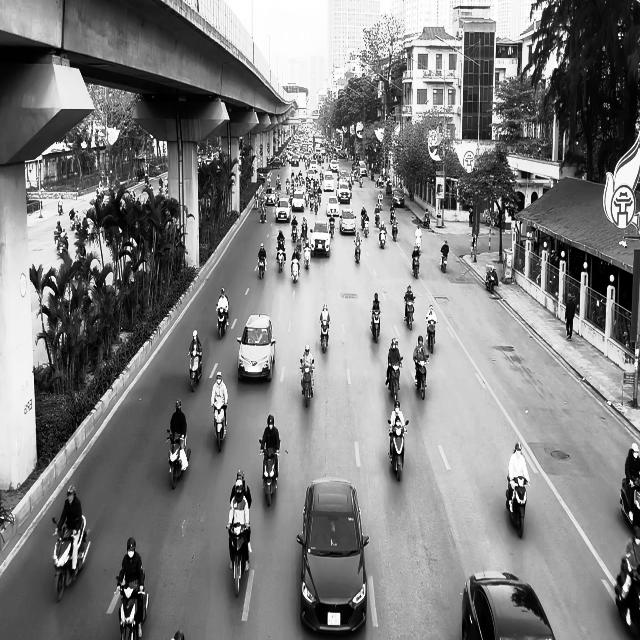car: (296, 477, 369, 634), (461, 570, 556, 639), (237, 314, 276, 382), (310, 220, 332, 257), (340, 207, 356, 235), (275, 199, 291, 222), (326, 195, 339, 217), (392, 187, 405, 207), (292, 191, 305, 211)
motorbike: (52, 515, 91, 603), (116, 576, 150, 640), (615, 556, 640, 637), (227, 523, 250, 597), (166, 430, 192, 490), (506, 475, 530, 538), (260, 438, 280, 506), (388, 418, 409, 480), (620, 476, 640, 530), (212, 400, 228, 452), (300, 360, 315, 408), (388, 356, 403, 402), (414, 357, 430, 400), (188, 349, 203, 392), (404, 294, 416, 330), (370, 307, 382, 342), (216, 305, 228, 339), (485, 265, 498, 293), (426, 320, 436, 353), (320, 320, 330, 352), (291, 251, 301, 283), (277, 242, 286, 272), (412, 250, 421, 278), (258, 254, 267, 278), (354, 238, 362, 263), (304, 240, 311, 268), (440, 251, 448, 272), (391, 219, 398, 242), (379, 228, 386, 249), (364, 218, 369, 237)
